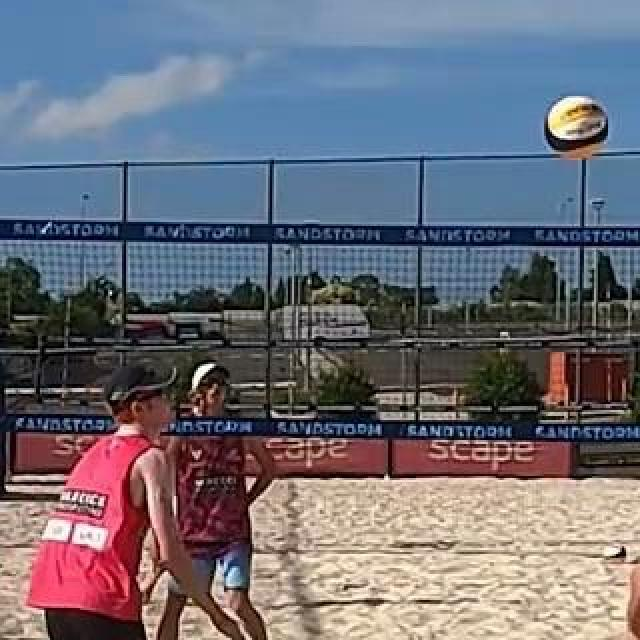volleyball: (542, 96, 606, 156), (603, 544, 625, 568)
